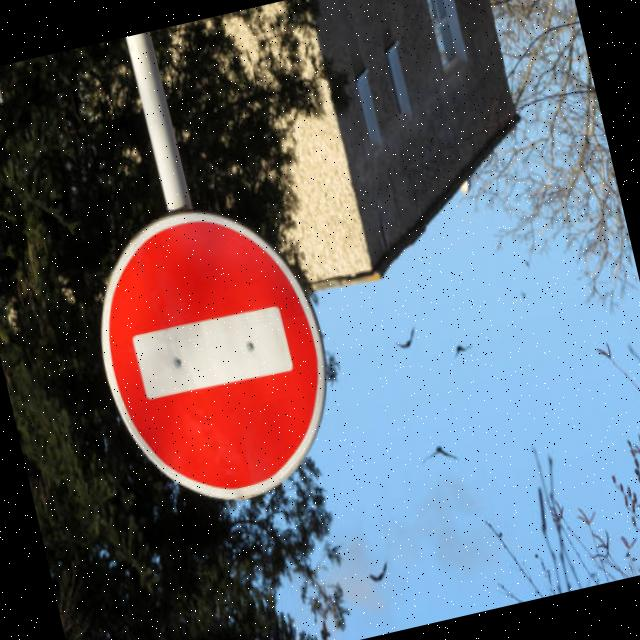do_not_enter: (65, 178, 376, 533)
